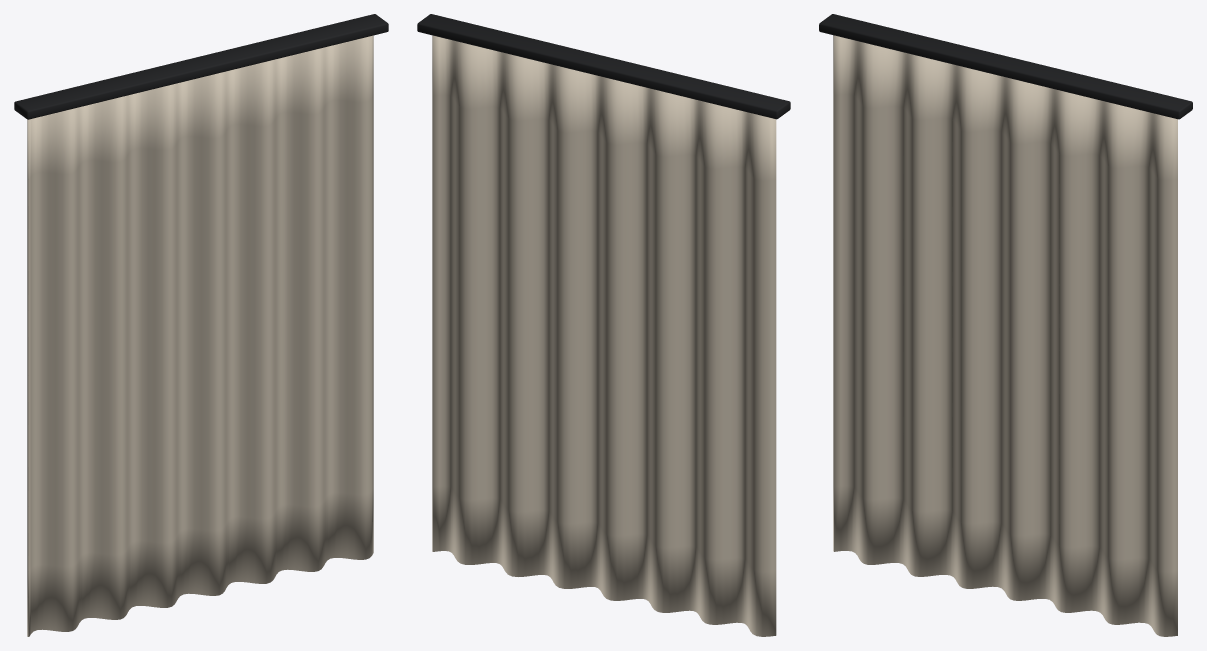
File: bl_curtain_cream.glb
3 views of the same model, side by side, from view 1: azimuth 30°, elevation 25°; view 2: azimuth 150°, elevation 25°; view 3: azimuth 330°, elevation 25° (orthographic).
Visible parts, largest first — view 1: curtain_cream, rail; view 2: curtain_cream, rail; view 3: curtain_cream, rail.
Part boxes in pixels (x1,y1,x2,y2): curtain_cream: (27,35,373,636); rail: (14,14,388,119); curtain_cream: (432,35,776,636); rail: (417,14,790,119); curtain_cream: (833,35,1177,636); rail: (819,14,1192,119).
Size of the model in its own units: 2.1 by 2.96 by 0.14.
